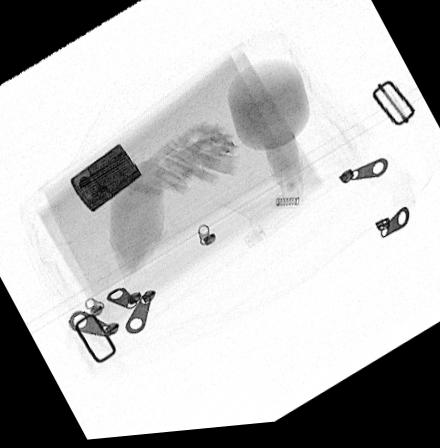Lighter: (69, 145, 143, 213)
